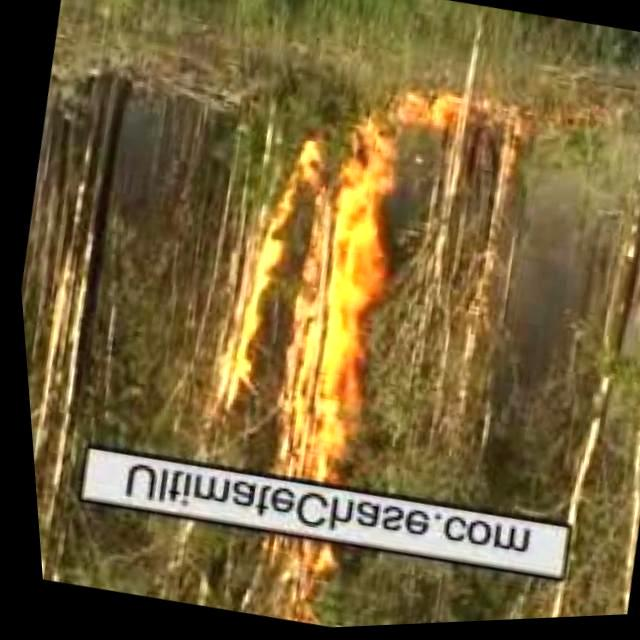fire: (180, 120, 424, 500), (240, 536, 324, 630), (390, 89, 462, 140)
